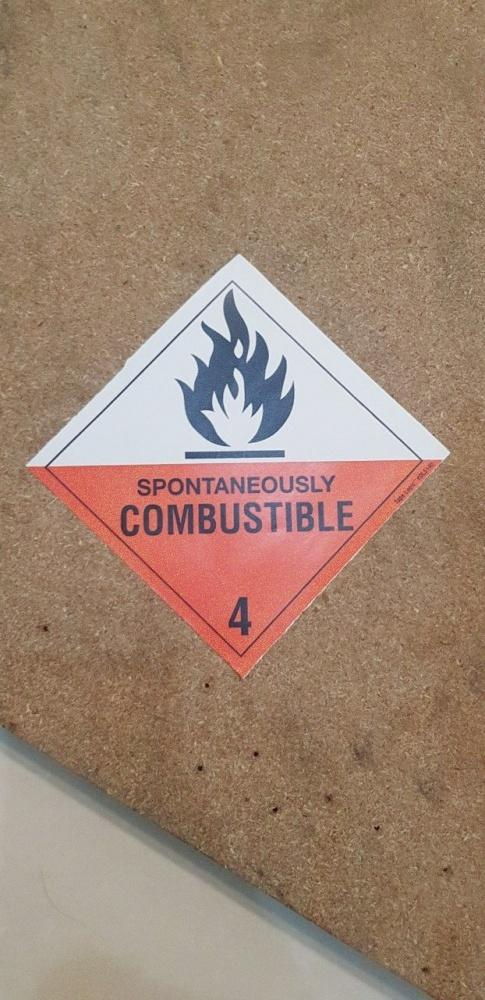spontaneously-combustible: (27, 254, 451, 676)
